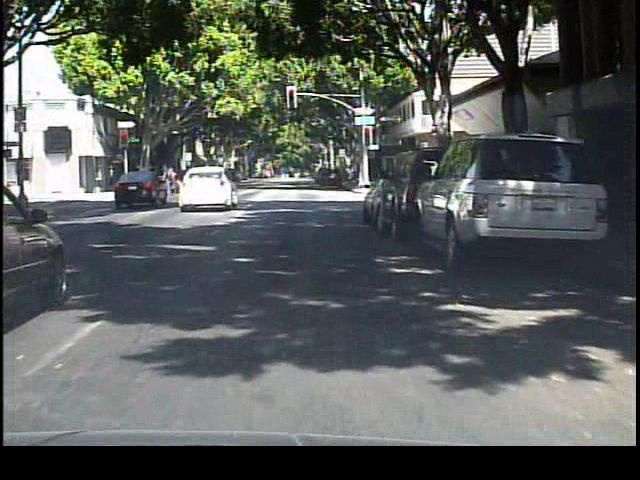person: (165, 162, 181, 202)
